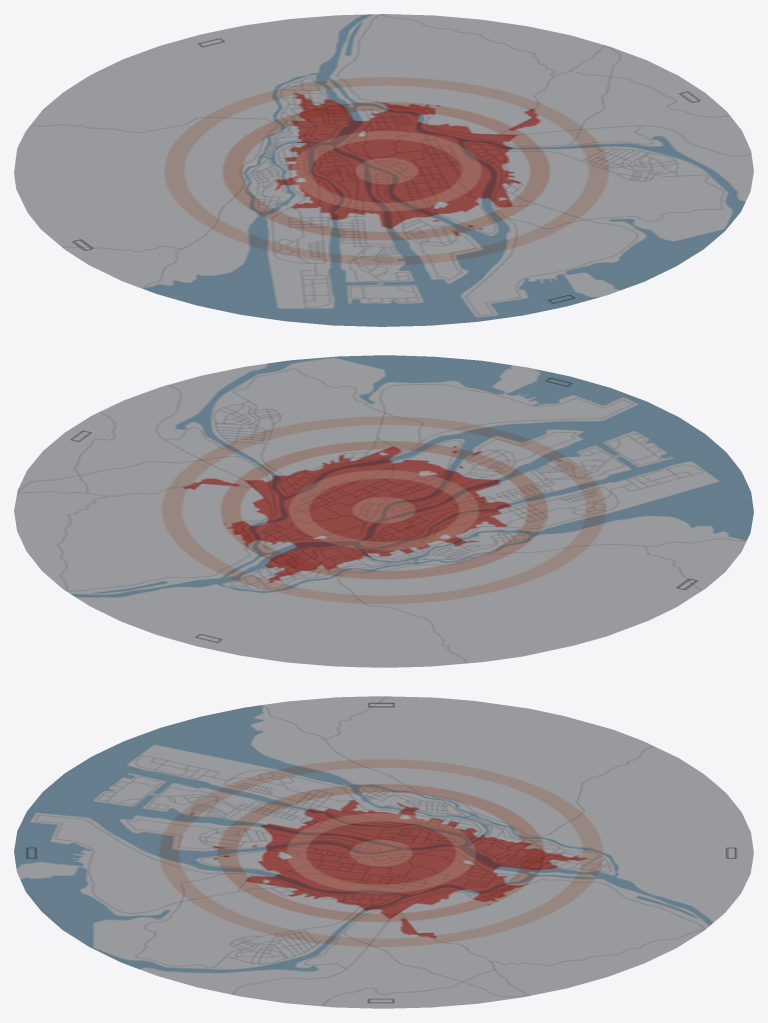
File: pisoHiroshima.glb
3 renders of one model, top to bottom at view 1: azimuth 30°, elevation 25°; view 2: azimuth 150°, elevation 25°; view 3: azimuth 270°, elevation 25°, orthographic.
Visible parts, largest first — view 1: Object_8; view 2: Object_8; view 3: Object_8.
Part boxes in pixels (box(x1,y1,x2,y2)): Object_8: box(14, 14, 753, 326); Object_8: box(14, 355, 753, 667); Object_8: box(14, 696, 753, 1008).
Bounding box in the file's own units: 4.92 × 1.66e-06 × 4.92.
Materials: 1 (1 with a texture image).
